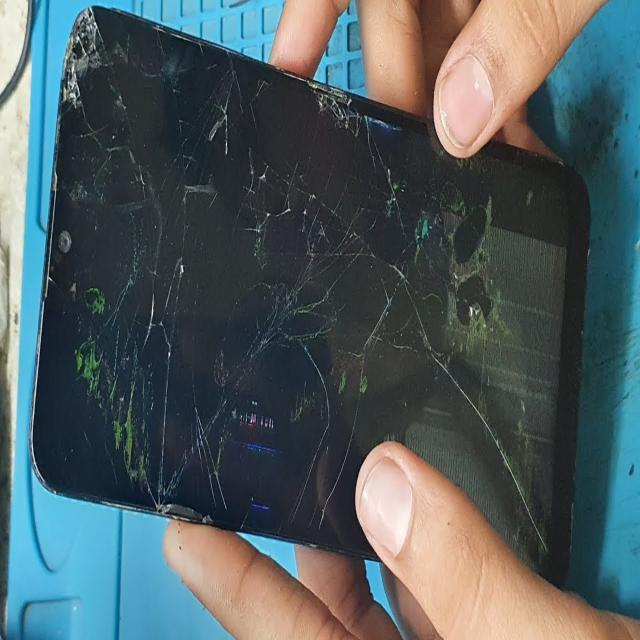mobile phone: (27, 4, 591, 592)
